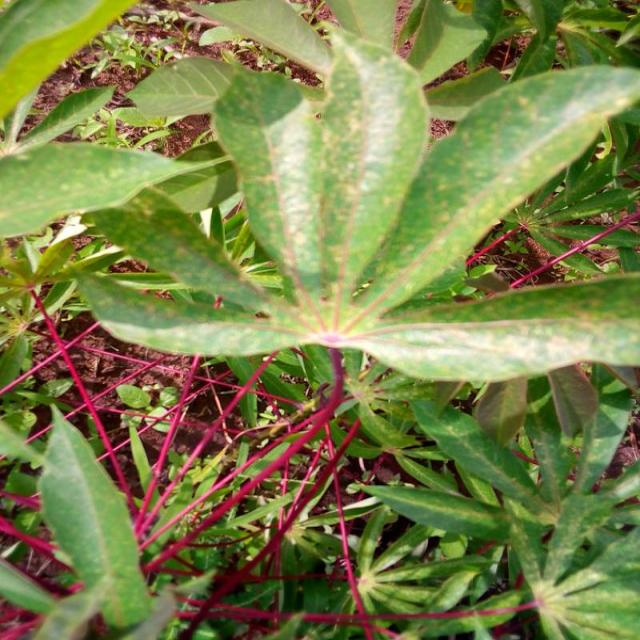cassava leaf: (66, 30, 639, 386), (38, 401, 154, 630)
